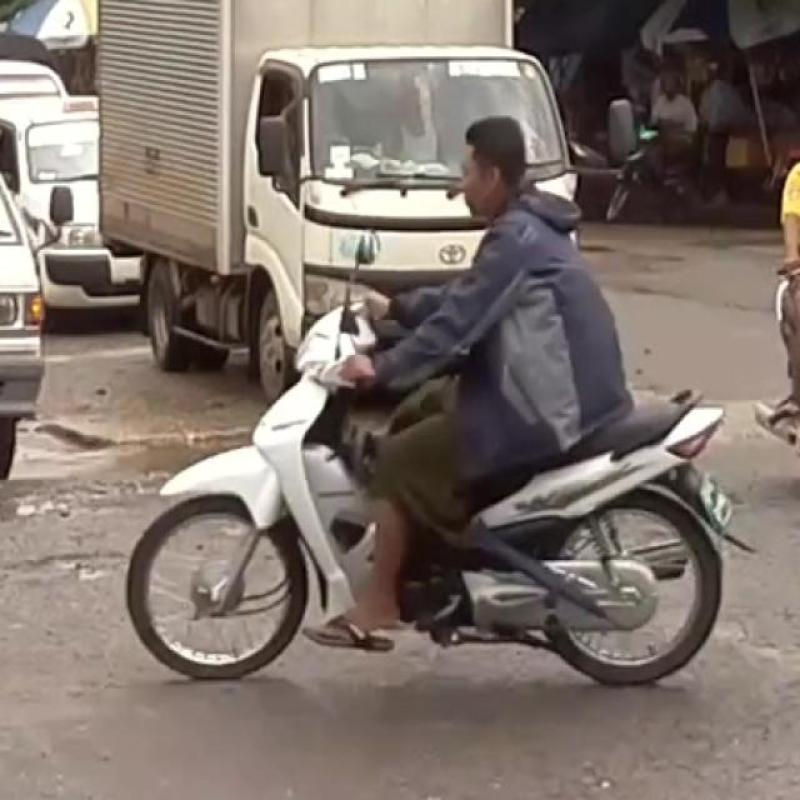nohelmet: (406, 105, 572, 246)
